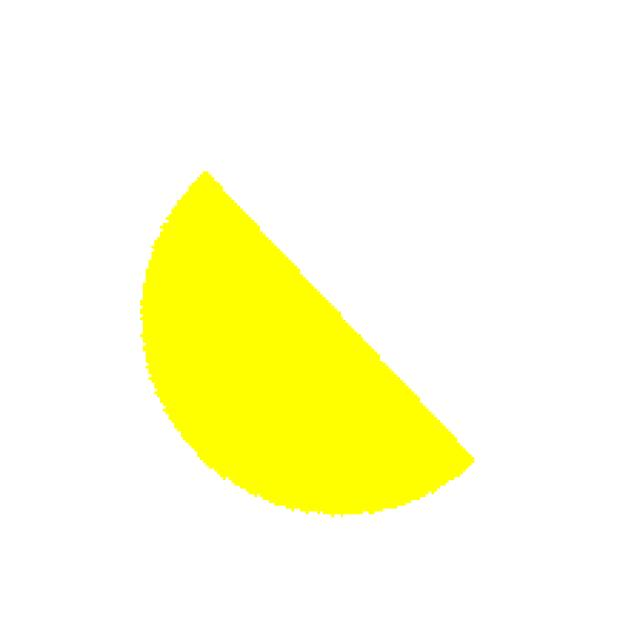Semicircle: (93, 171, 506, 526)
